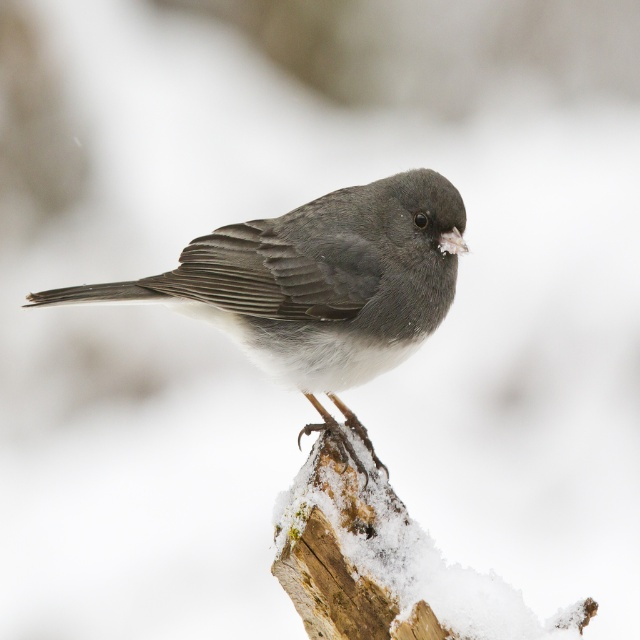Sparrow: (20, 166, 471, 491)
